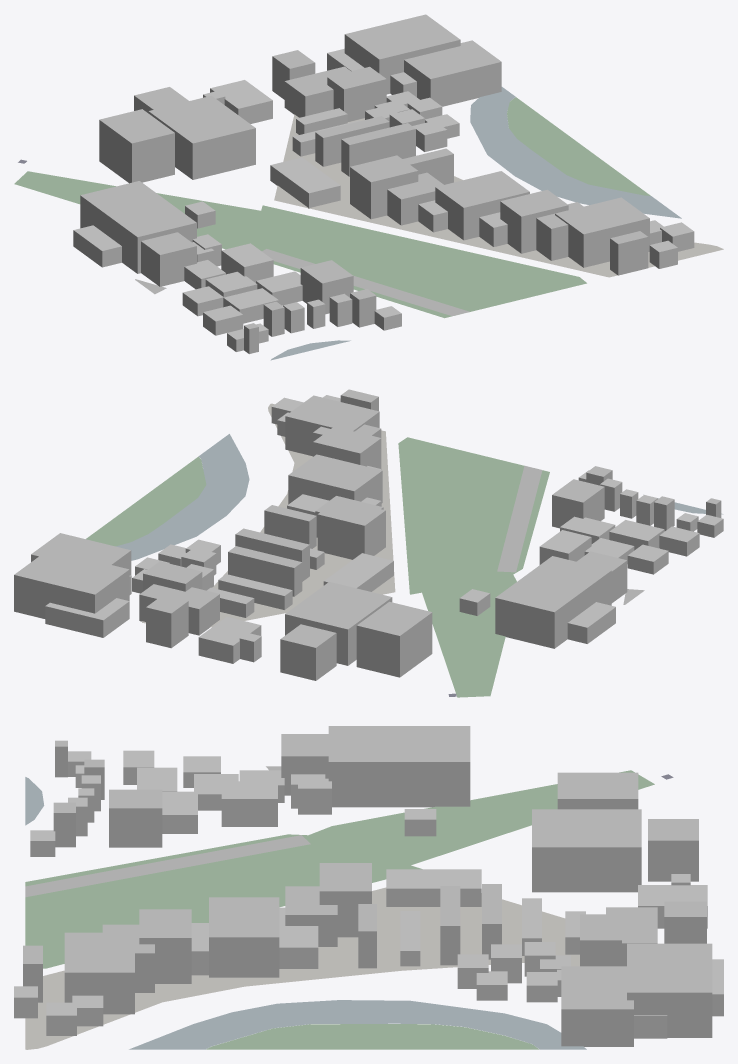
Rendered from 105_100_mid.glb.
3 views of the same model, one above another, from view 1: azimuth 30°, elevation 25°; view 2: azimuth 150°, elevation 25°; view 3: azimuth 270°, elevation 25° (orthographic). The views are drawn at different scales.
Bounding box in the file's own units: 512 × 42.2 × 527.
